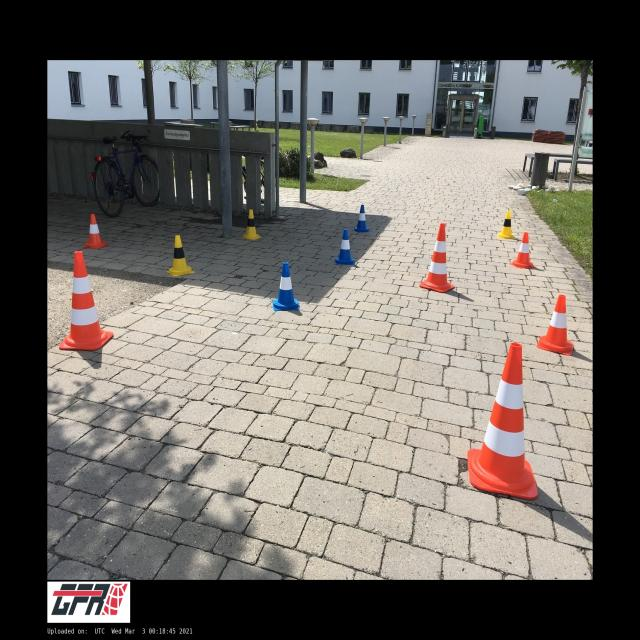blue_cone: (272, 262, 300, 311), (335, 228, 354, 264), (352, 205, 371, 232)
large_orange_cone: (467, 342, 538, 500), (59, 251, 113, 350), (419, 223, 454, 292)
orange_cone: (537, 294, 574, 356), (509, 232, 536, 268), (82, 214, 108, 248)
yellow_cone: (167, 235, 194, 276), (241, 209, 262, 240), (498, 210, 515, 239)
